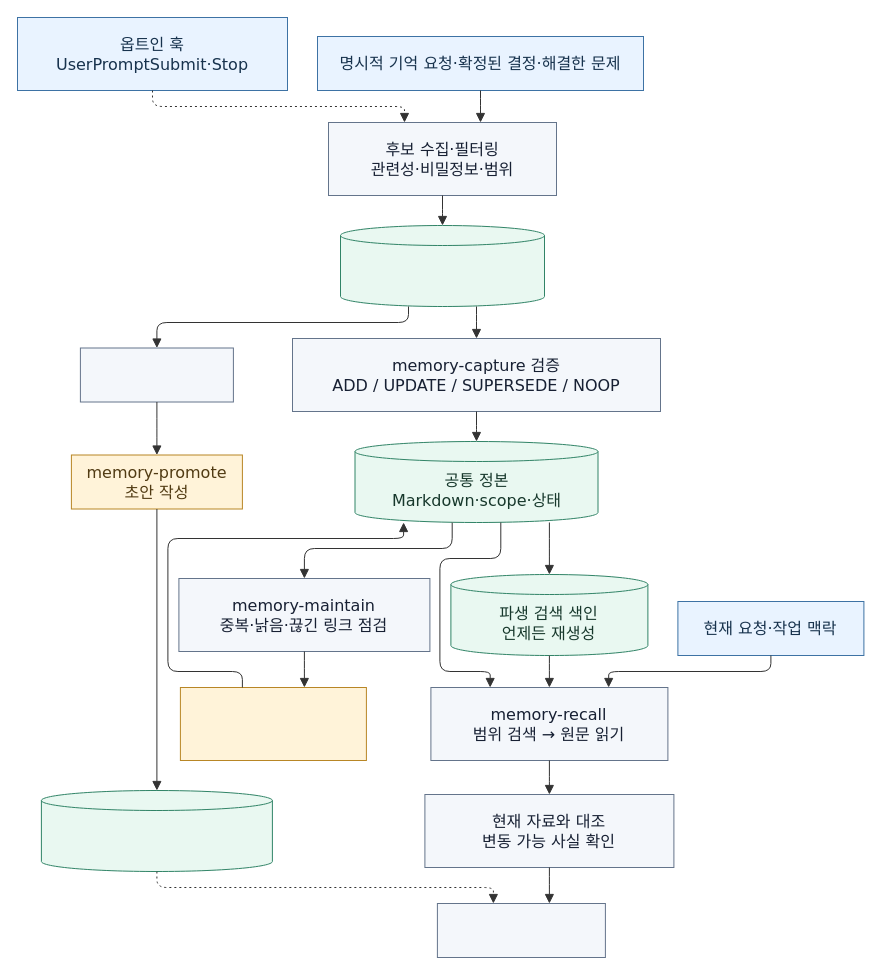
This 882x975 diagram has some shape labels left out. The shapes that lost their labels are listed below. From the top down, each one's centre as x and y in pixels, then its label:
[442,265]: 대기 후보 근거 위치·시각·범위
[156,374]: 반복 패턴 후보
[272,723]: 요청 범위 변경 대체·보관·명시적 삭제
[156,831]: 검토용 스킬 초안 설치·호출은 별도 승인
[520,930]: 답변·작업에 적용
